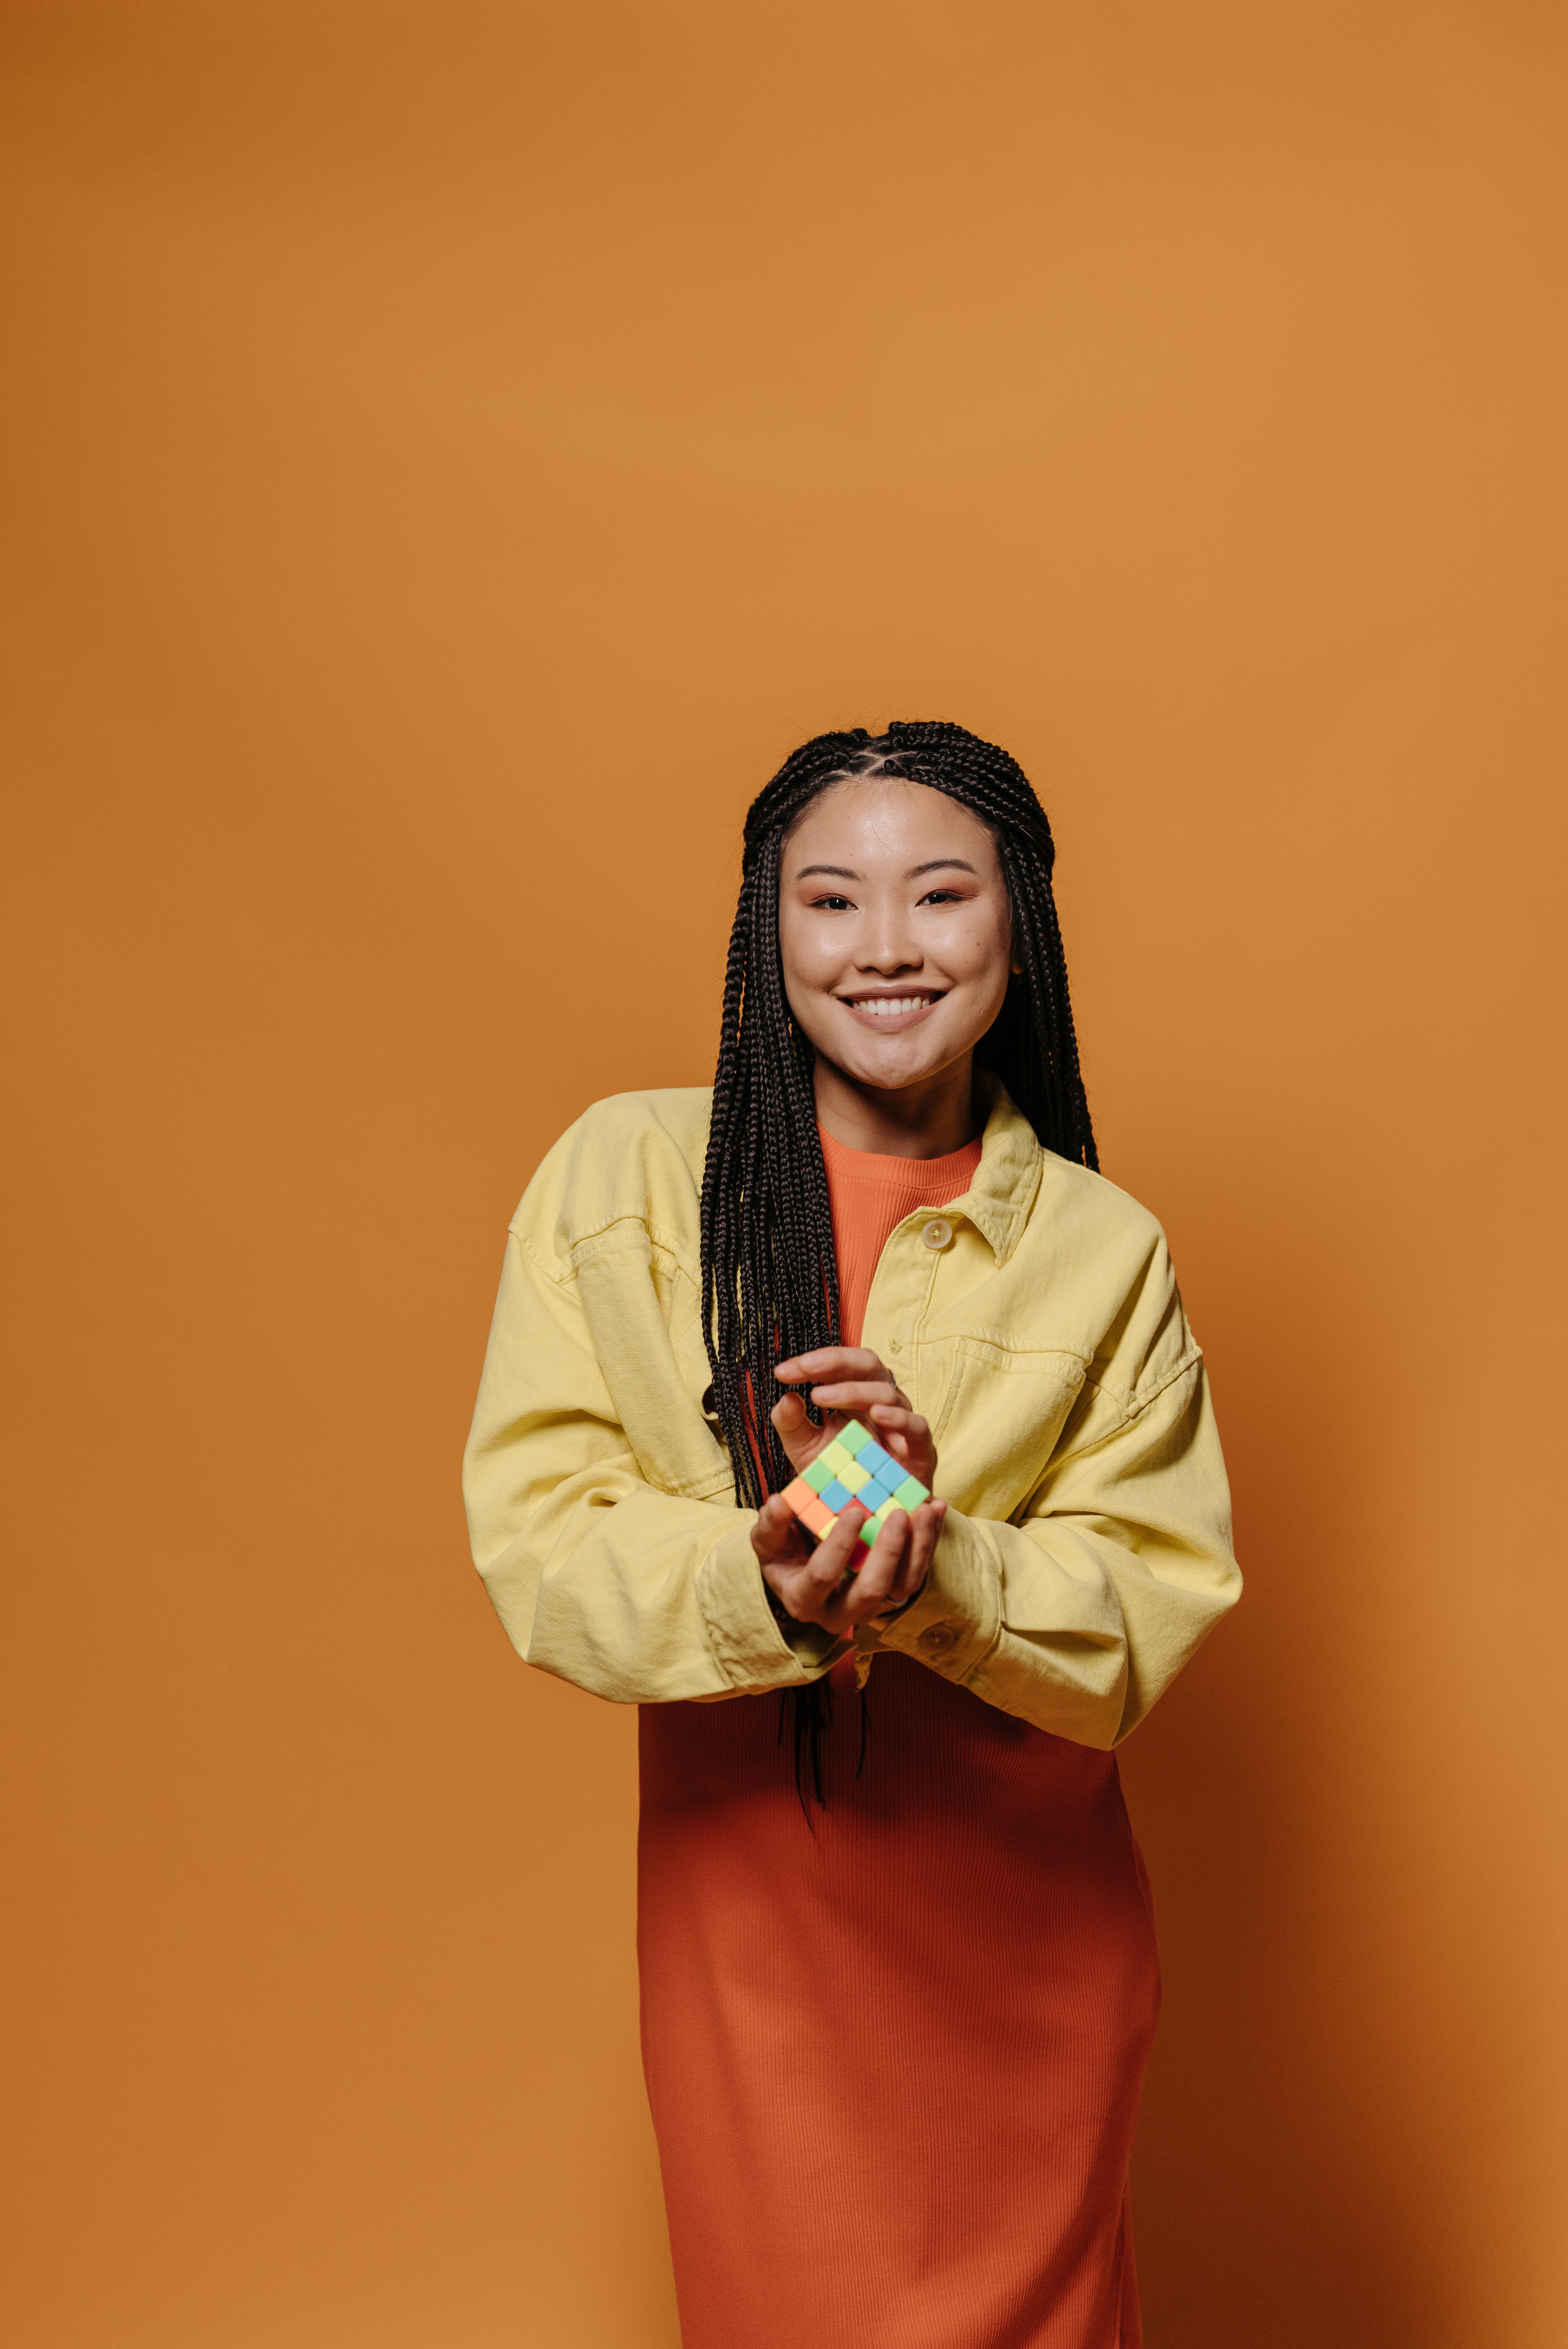cube: (766, 1411, 938, 1574)
